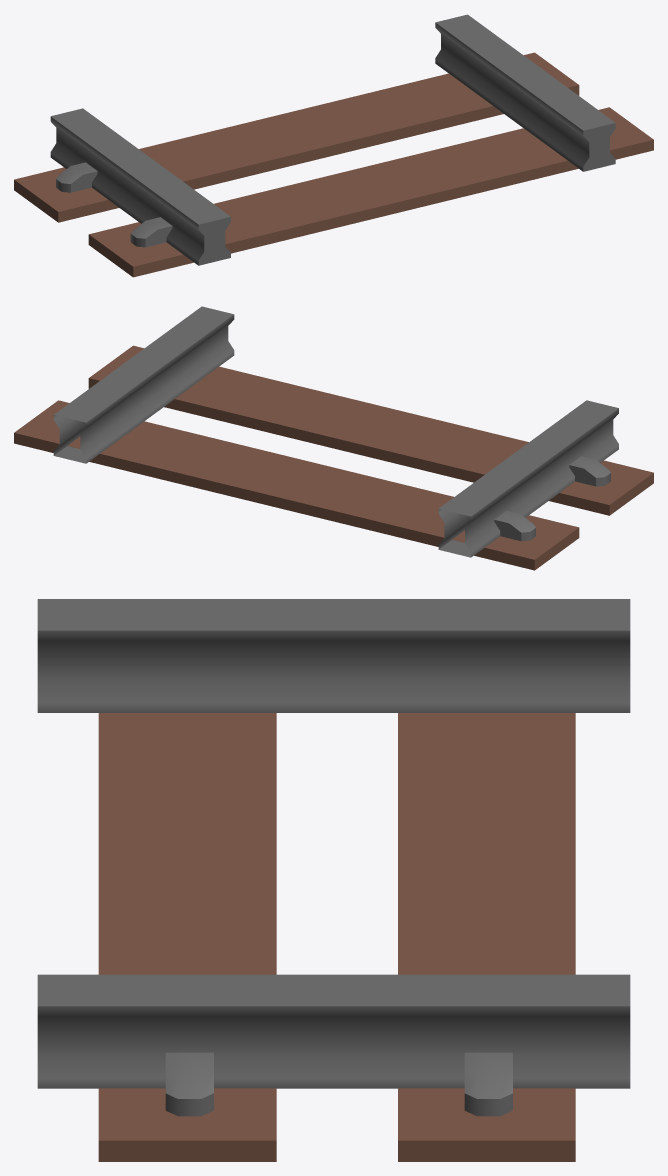
Rendered from Trilho_reto1.fbx.
The picture shows the model from 3 angles, top to bottom: view 1: azimuth 30°, elevation 25°; view 2: azimuth 150°, elevation 25°; view 3: azimuth 270°, elevation 25°; orthographic projection. The views are drawn at different scales.
Visible parts, largest first — view 1: trilho_reto1; view 2: trilho_reto1; view 3: trilho_reto1.
Part boxes in pixels (<box>): trilho_reto1: <box>14,14,653,277</box>; trilho_reto1: <box>14,306,653,570</box>; trilho_reto1: <box>37,599,630,1161</box>.
Size of the model in its own units: 203 by 19.27 by 100.
